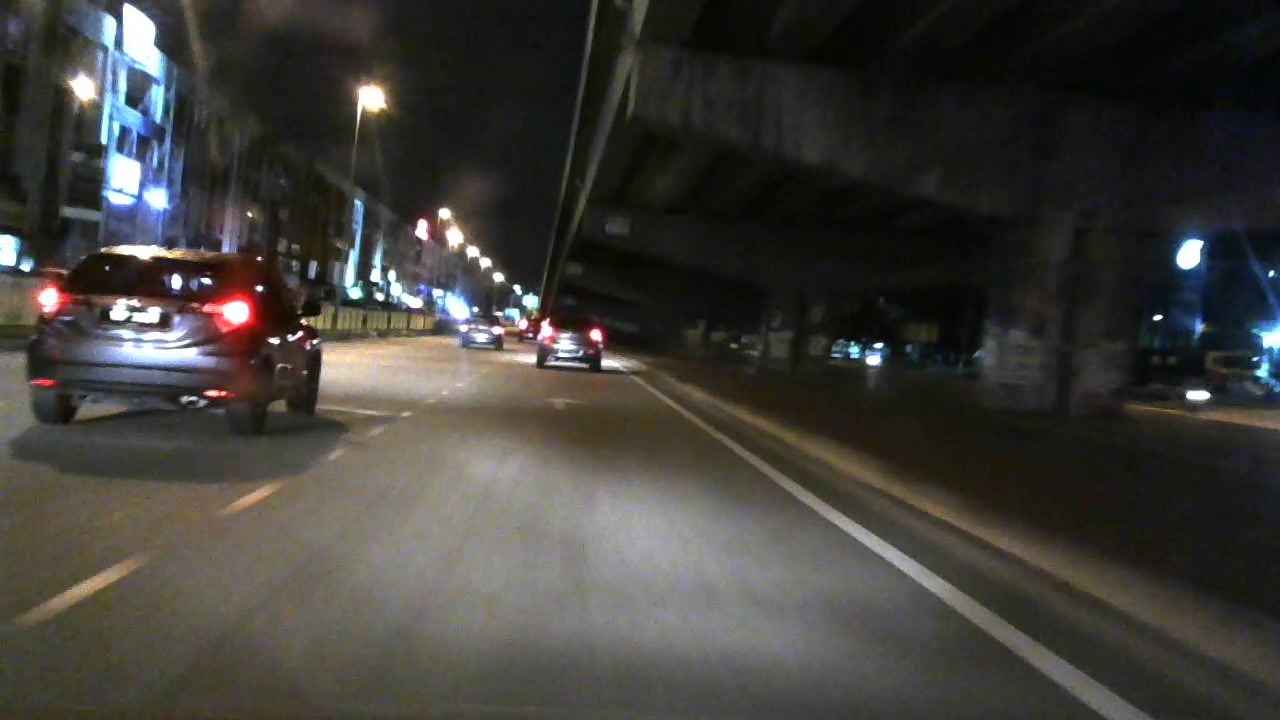Car: (26, 234, 348, 442), (521, 308, 624, 372), (454, 309, 507, 354)
